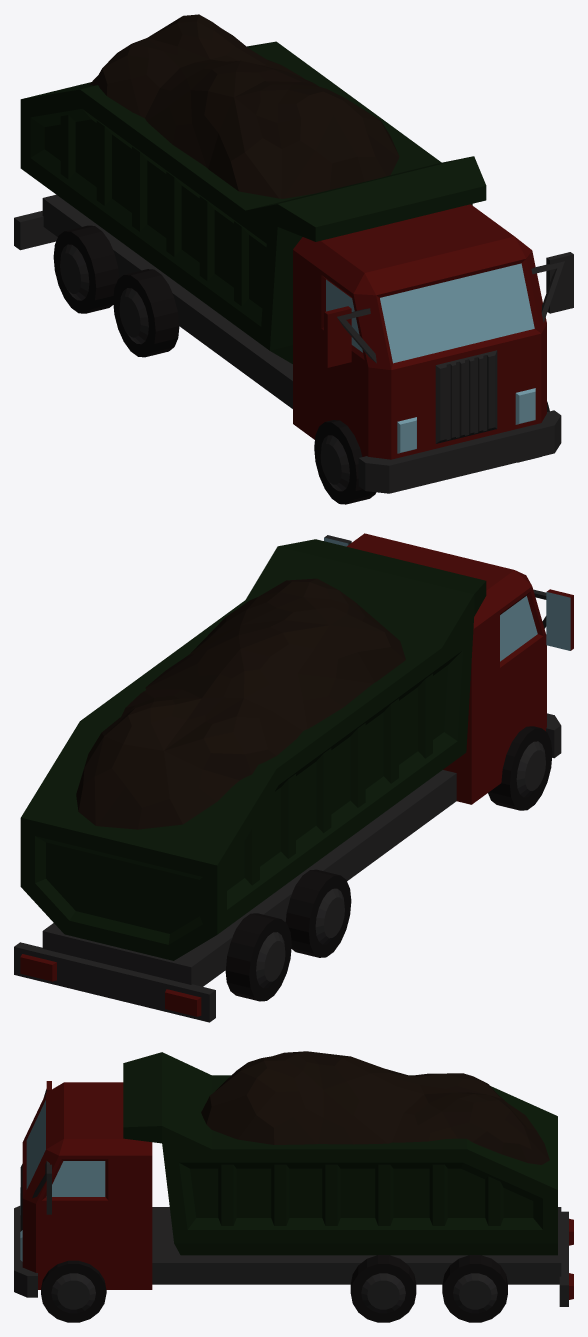
The model's file is truck_rubbish.fbx.
3 renders of one model, top to bottom at view 1: azimuth 30°, elevation 25°; view 2: azimuth 150°, elevation 25°; view 3: azimuth 270°, elevation 25°, orthographic. The views are drawn at different scales.
Visible parts, largest first — view 1: truck rubbish; view 2: truck rubbish; view 3: truck rubbish.
Boxes of the visible parts, x1=… form: truck rubbish: x1=14, y1=14, x2=573, y2=504; truck rubbish: x1=14, y1=533, x2=573, y2=1022; truck rubbish: x1=14, y1=1051, x2=573, y2=1322.
Size of the model in its own units: 80.05 by 204 by 90.65.
